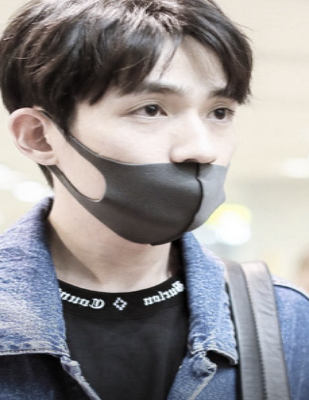mask_weared_incorrect: (76, 80, 241, 247)
